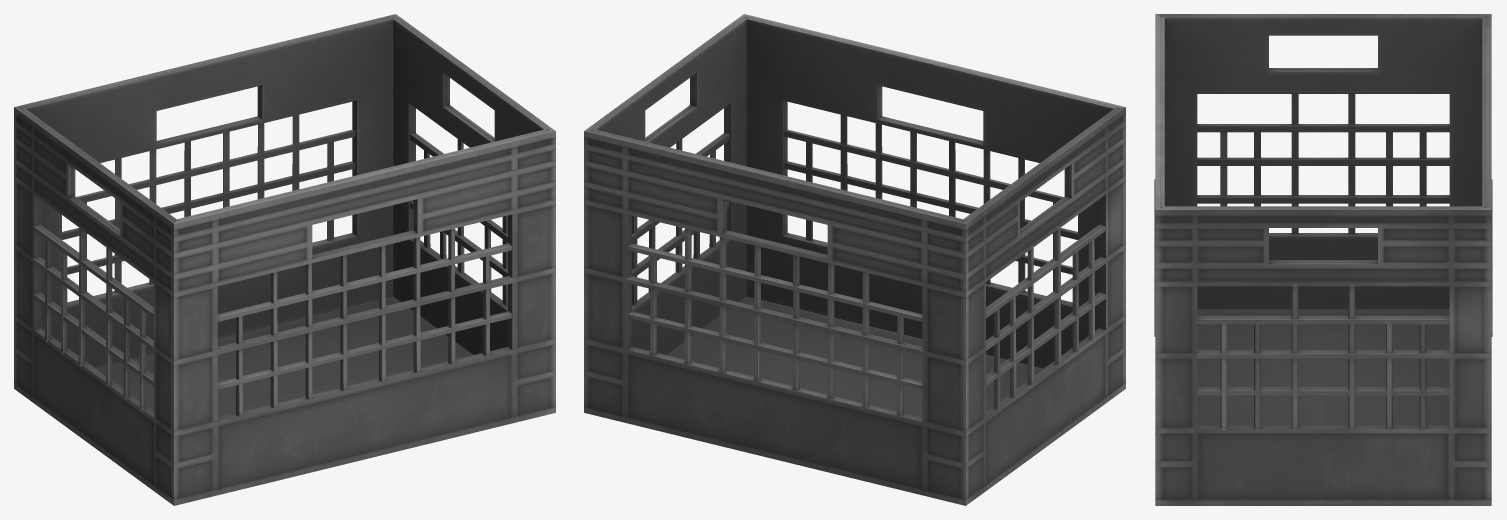
Rendered from Milk_Carton.fbx.
3 views of the same model, side by side, from view 1: azimuth 30°, elevation 25°; view 2: azimuth 150°, elevation 25°; view 3: azimuth 270°, elevation 25° (orthographic). The views are drawn at different scales.
Parts seen in each view (by area): view 1: Milk_Carton_LOD0; view 2: Milk_Carton_LOD0; view 3: Milk_Carton_LOD0.
Part boxes in pixels (box(x1,y1,x2,y2)): Milk_Carton_LOD0: box(14, 14, 555, 505); Milk_Carton_LOD0: box(584, 14, 1125, 505); Milk_Carton_LOD0: box(1154, 14, 1492, 505).
Size of what is drawn, in the model's own units: 85.71 by 60.14 by 62.27.
